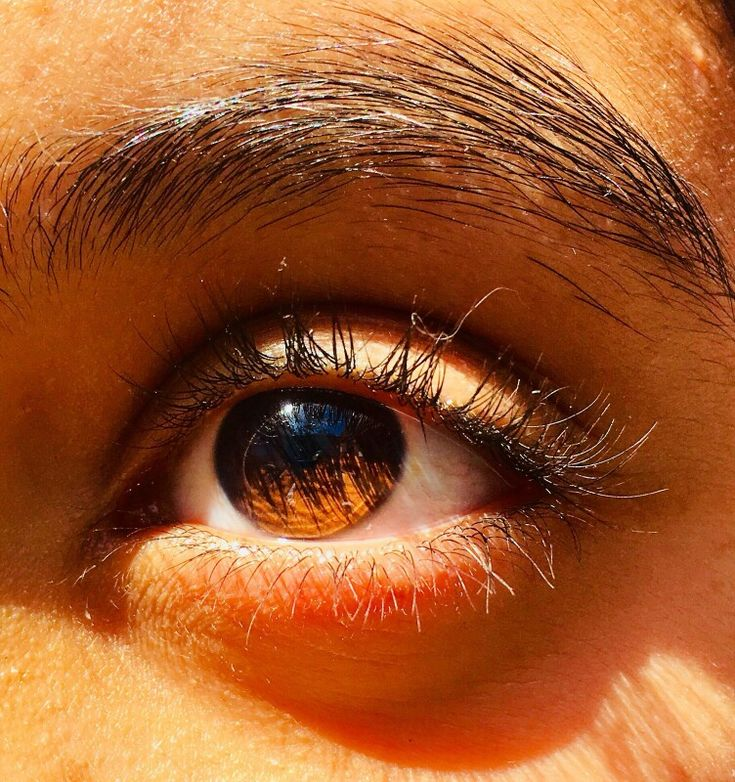iris: (212, 370, 406, 540)
pupil: (283, 406, 334, 463)
